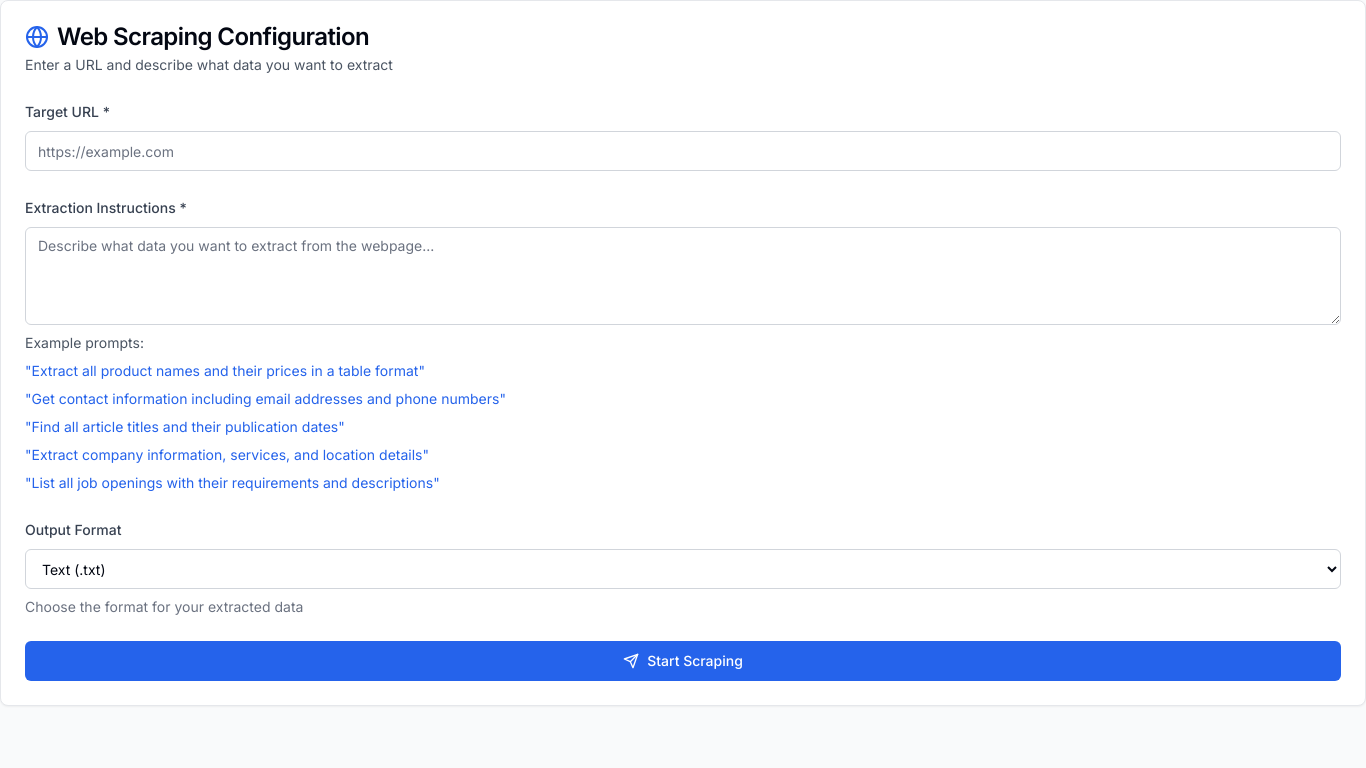
Test: ScrapeForm › fills prompt when example is clicked
Step 1. Click the button "\"Extract all product names and their prices in a table format\"" → (225, 370), box [25, 361, 1341, 381]
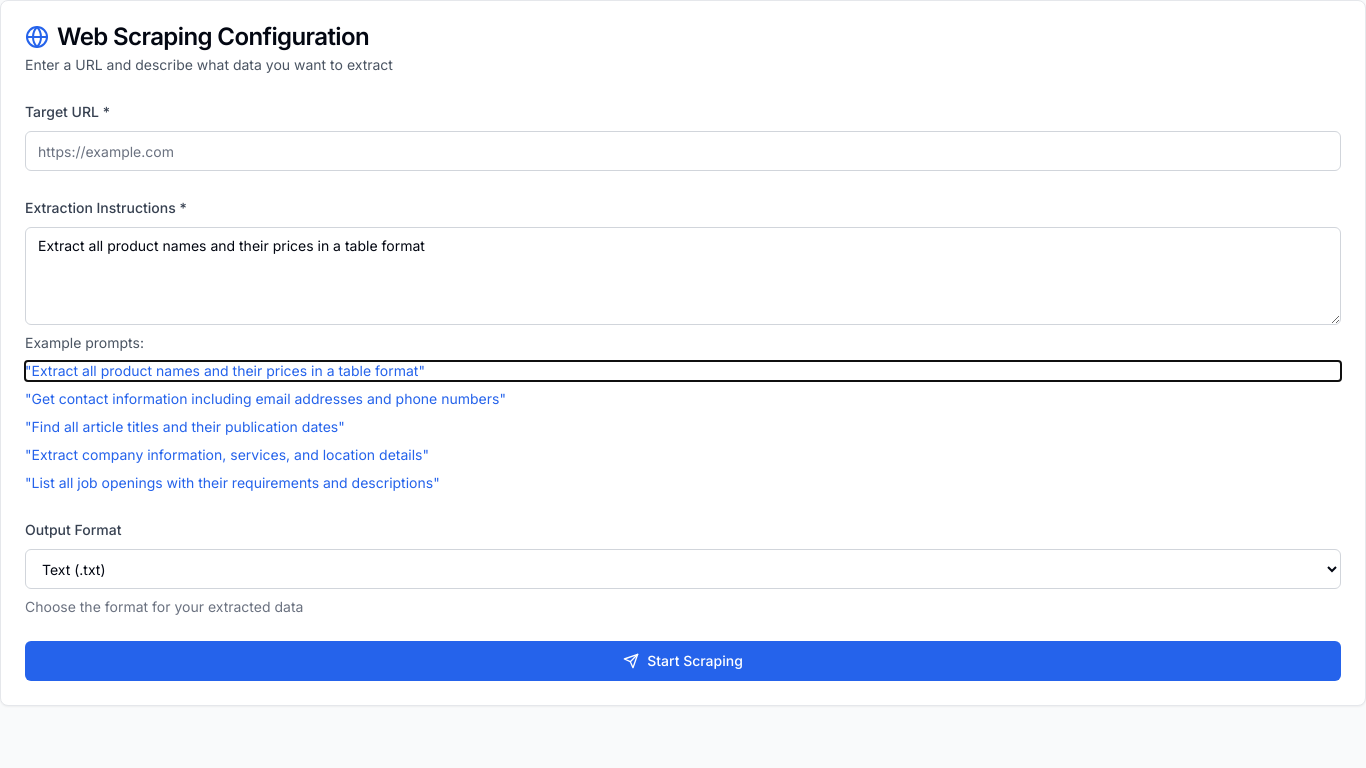
Expected: the text box labelled "Extraction Instructions *" holds "Extract all product names and their prices in a table format", [25, 227, 1341, 325]
